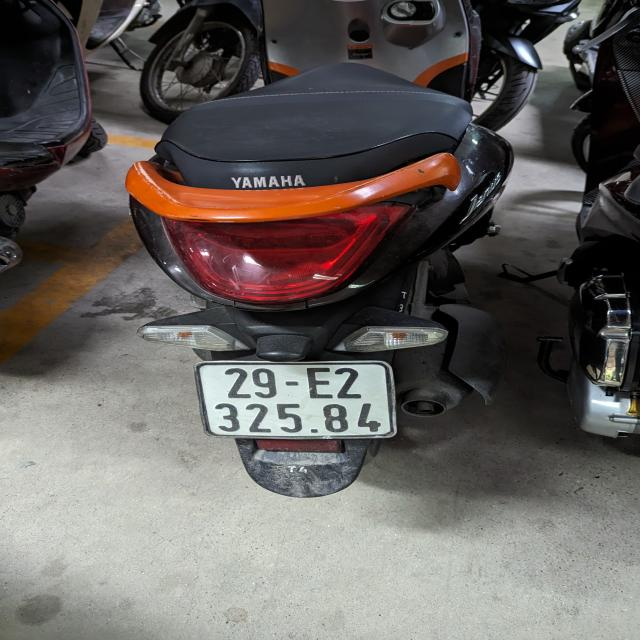License: (193, 360, 397, 440)
